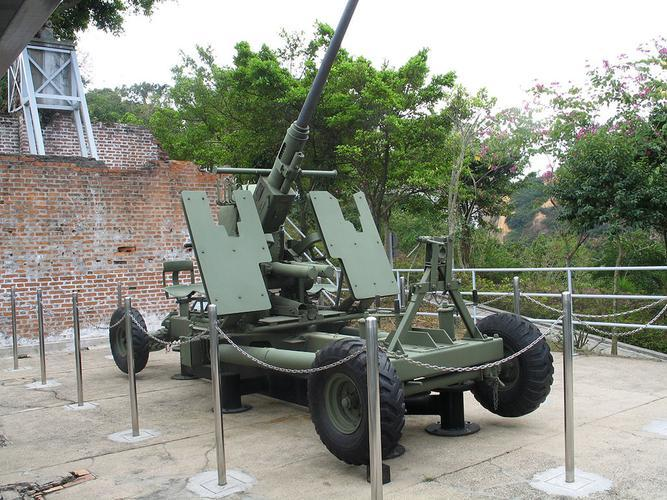MIL_SPG: (109, 0, 554, 464)
